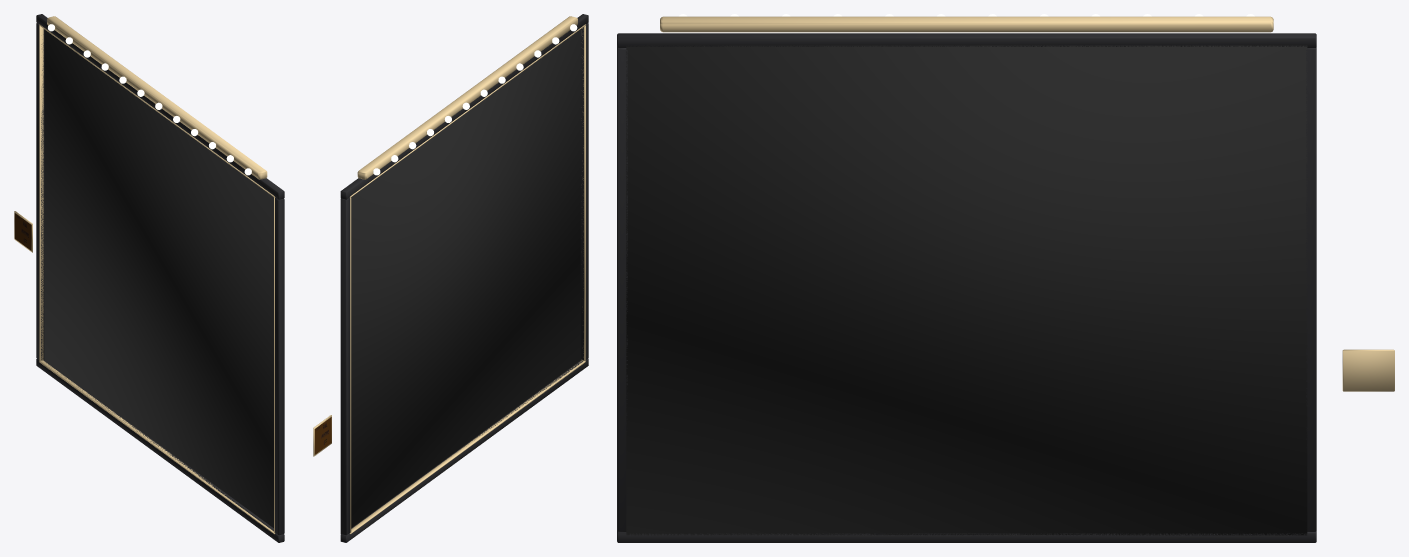
Rendered from big_mirror.glb.
3 views of the same model, side by side, from view 1: azimuth 30°, elevation 25°; view 2: azimuth 150°, elevation 25°; view 3: azimuth 270°, elevation 25° (orthographic). The views are drawn at different scales.
Visible parts, largest first — view 1: Backing, Frame steel, Frame brass, Vanity bulb, Panel label; view 2: Backing, Frame steel, Frame brass, Vanity bulb, Panel label; view 3: Backing, Frame steel, Frame brass.
Boxes of the visible parts, x1,y1,x2,y2 form: Backing: (44,29,273,527); Frame steel: (36,14,284,542); Frame brass: (14,16,275,534); Vanity bulb: (48,24,251,175); Panel label: (14,213,31,250); Backing: (351,29,580,527); Frame steel: (340,14,588,542); Frame brass: (313,16,585,534); Vanity bulb: (373,24,577,175); Panel label: (314,417,331,454); Backing: (626,45,1307,535); Frame steel: (617,33,1316,542); Frame brass: (660,16,1394,391).
Bounding box in the file's own units: 0.185 × 3.74 × 5.07.
5 materials, 1 textured.
